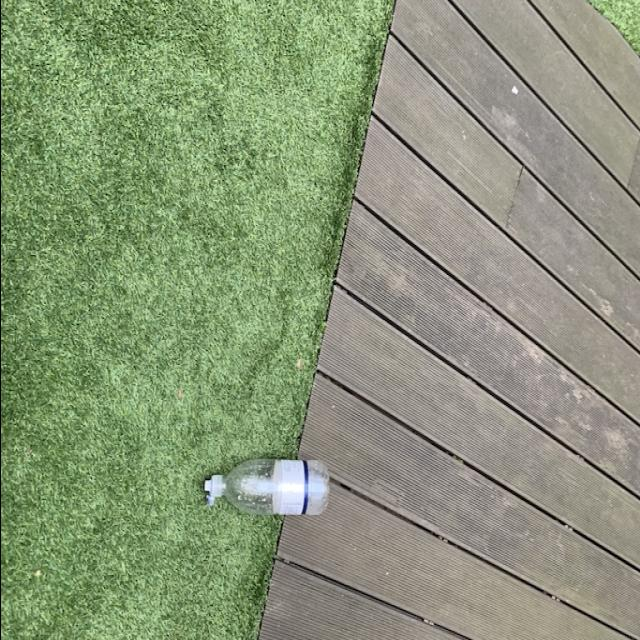PET: (198, 456, 328, 516)
